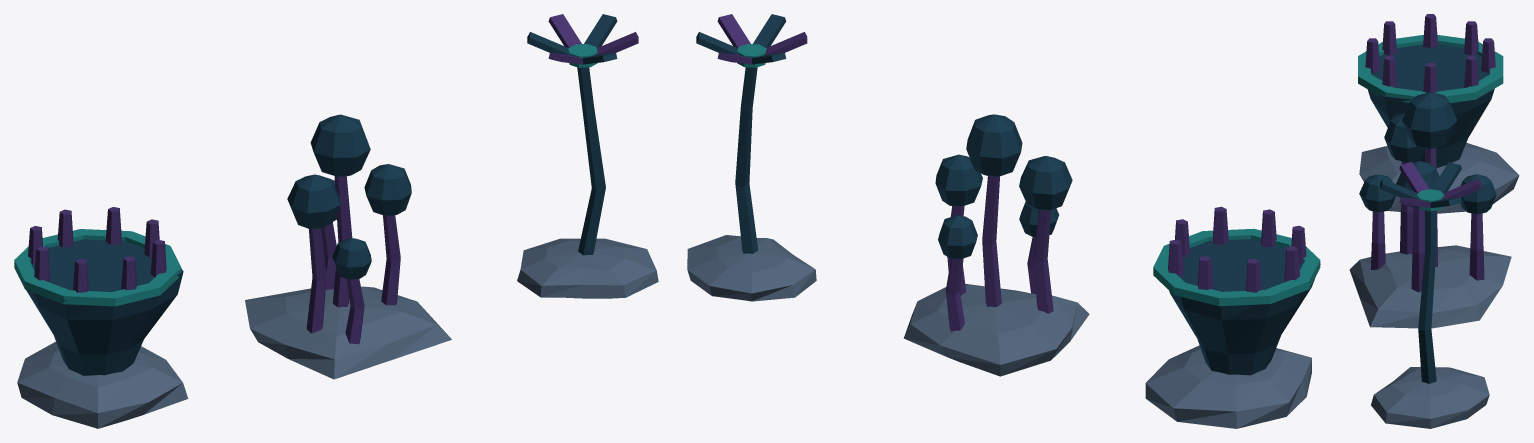
The picture shows the model from 3 angles, left to right: view 1: azimuth 30°, elevation 25°; view 2: azimuth 150°, elevation 25°; view 3: azimuth 270°, elevation 25°; orthographic projection. The views are drawn at different scales.
Parts seen in each view (by area): view 1: DL009_BioluminescentFlora_stone_blue, DL009_BioluminescentFlora_flora_body, DL009_BioluminescentFlora_flora_violet, DL009_BioluminescentFlora_emissive_teal; view 2: DL009_BioluminescentFlora_stone_blue, DL009_BioluminescentFlora_flora_body, DL009_BioluminescentFlora_flora_violet, DL009_BioluminescentFlora_emissive_teal; view 3: DL009_BioluminescentFlora_stone_blue, DL009_BioluminescentFlora_flora_body, DL009_BioluminescentFlora_flora_violet, DL009_BioluminescentFlora_emissive_teal.
Boxes of the visible parts, box(x1,y1,x2,y2) form: DL009_BioluminescentFlora_stone_blue: box(17, 238, 658, 428); DL009_BioluminescentFlora_flora_body: box(26, 14, 617, 375); DL009_BioluminescentFlora_flora_violet: box(28, 14, 638, 344); DL009_BioluminescentFlora_emissive_teal: box(14, 44, 597, 306); DL009_BioluminescentFlora_stone_blue: box(687, 235, 1311, 428); DL009_BioluminescentFlora_flora_body: box(696, 14, 1320, 375); DL009_BioluminescentFlora_flora_violet: box(717, 14, 1306, 331); DL009_BioluminescentFlora_emissive_teal: box(737, 44, 1320, 306); DL009_BioluminescentFlora_stone_blue: box(1349, 142, 1519, 428); DL009_BioluminescentFlora_flora_body: box(1359, 44, 1496, 383); DL009_BioluminescentFlora_flora_violet: box(1365, 14, 1495, 292); DL009_BioluminescentFlora_emissive_teal: box(1358, 35, 1503, 211).
Size of the model in its own units: 5.64 by 2.22 by 1.47.
